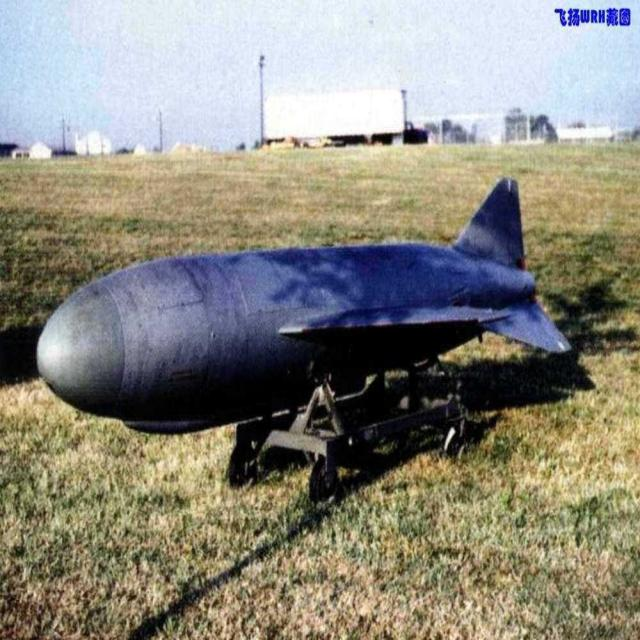missile: (34, 175, 571, 468)
